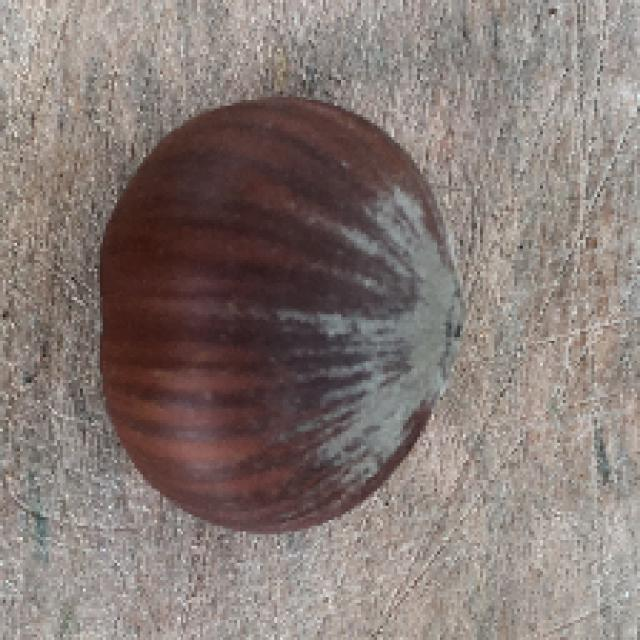DamagedHazelnut: (97, 94, 465, 532)
